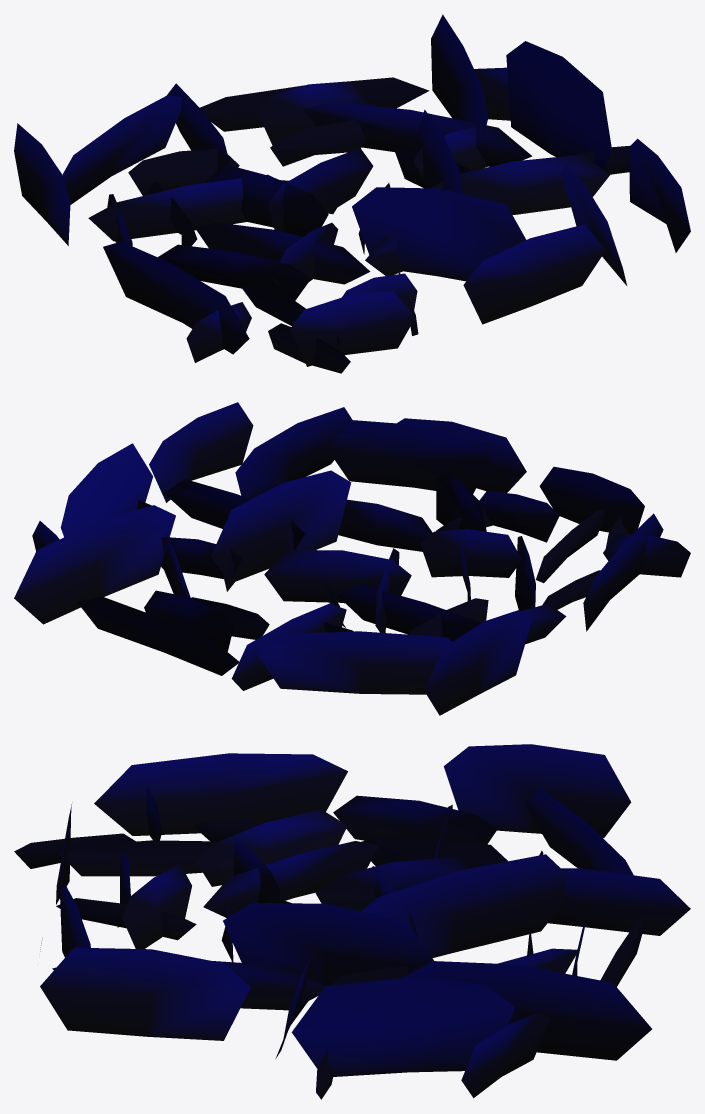
Rendered from SM_Grass_XS_Patch_L_05.fbx.
3 renders of one model, top to bottom at view 1: azimuth 30°, elevation 25°; view 2: azimuth 150°, elevation 25°; view 3: azimuth 270°, elevation 25°, orthographic. The views are drawn at different scales.
Visible parts, largest first — view 1: SM_Grass_XS_Patch_L_05; view 2: SM_Grass_XS_Patch_L_05; view 3: SM_Grass_XS_Patch_L_05.
Part boxes in pixels (x1,y1,x2,y2): SM_Grass_XS_Patch_L_05: (14, 14, 690, 373); SM_Grass_XS_Patch_L_05: (14, 402, 690, 715); SM_Grass_XS_Patch_L_05: (14, 744, 690, 1099).
Bounding box in the file's own units: 187 × 181 × 30.41.
